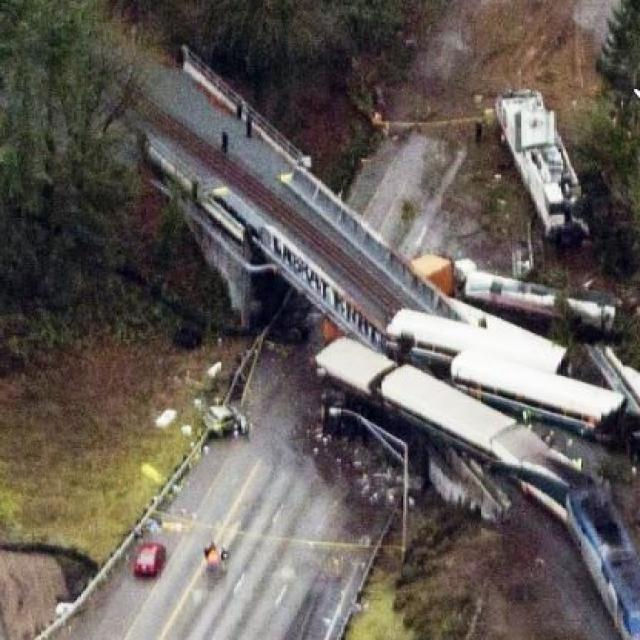traffic_incident: (330, 198, 638, 523), (478, 81, 597, 241)
